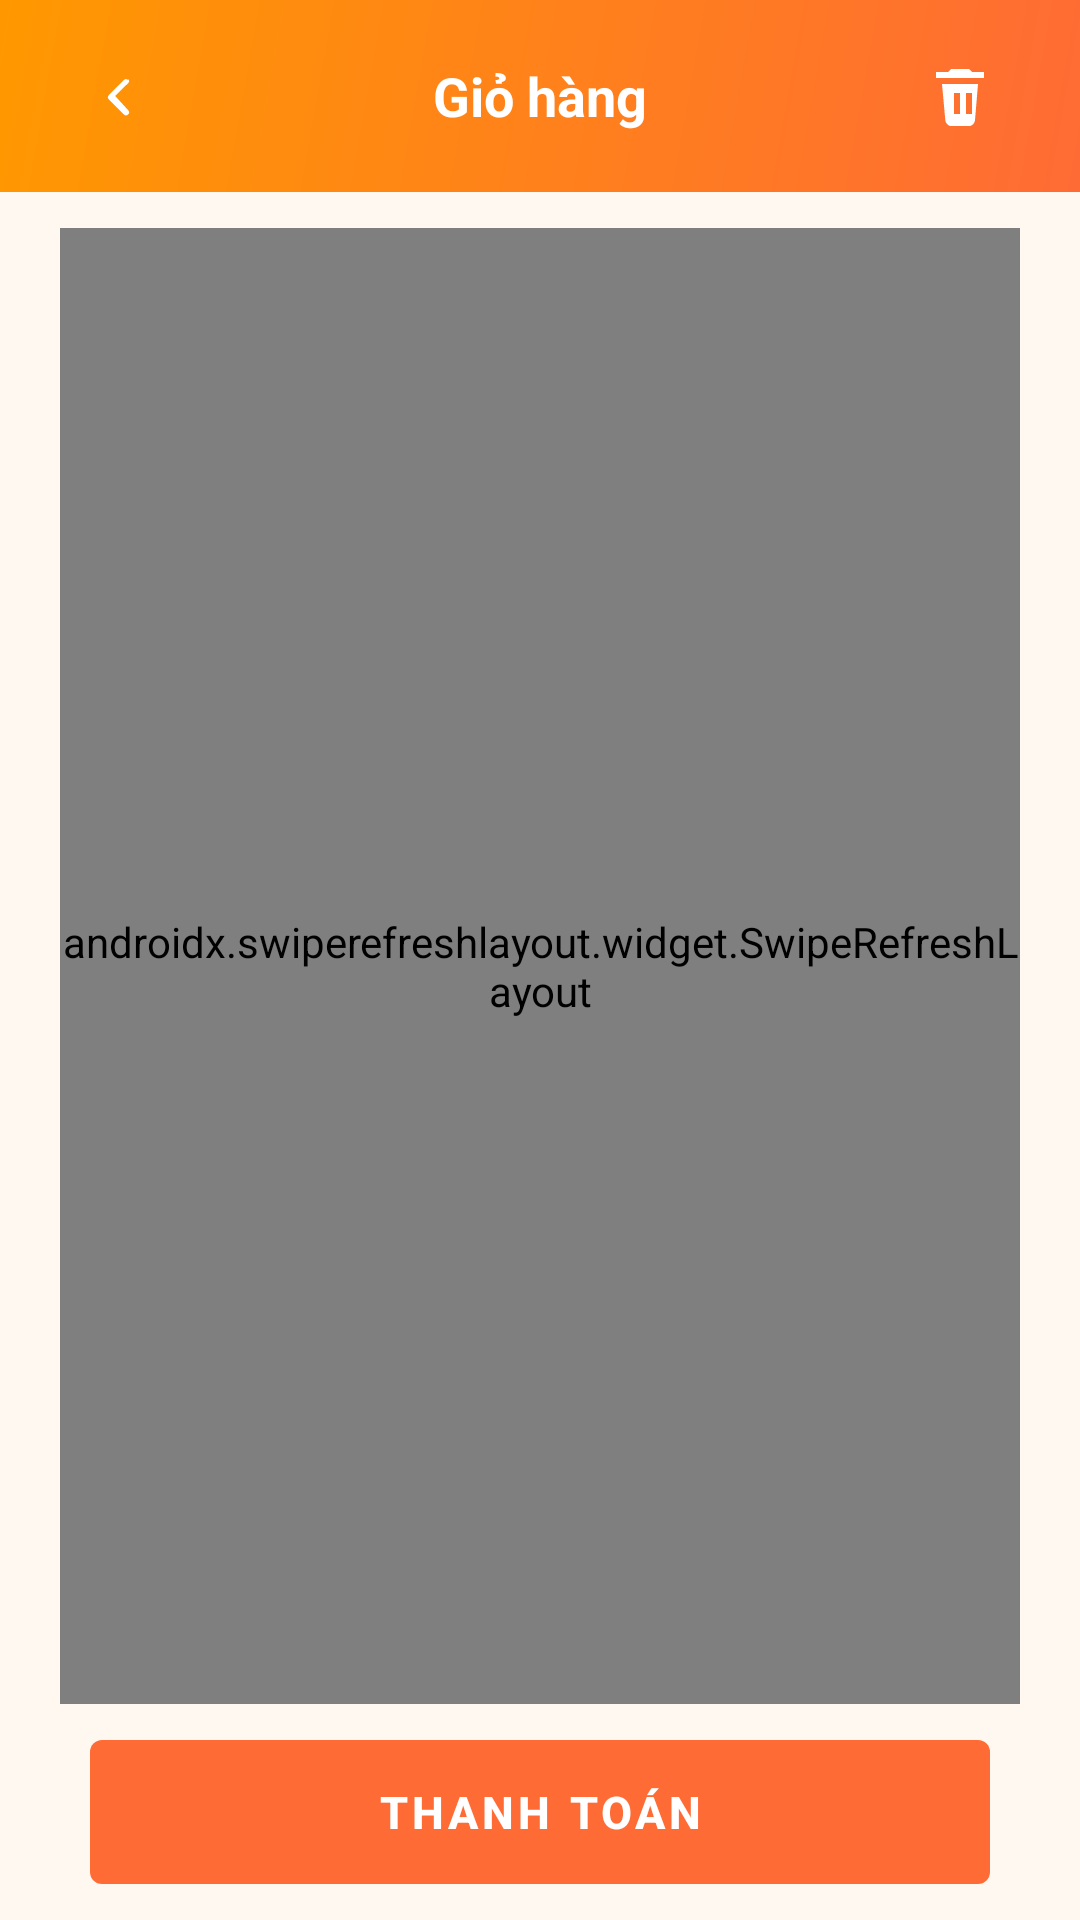

Screen size 1080x1920. Icon name, then its box in pixels as {"x1": x1, "y1": y1, "x2": x2, "y2": y2}:
chevron left: {"x1": 107, "y1": 79, "x2": 130, "y2": 116}
delete: {"x1": 936, "y1": 69, "x2": 984, "y2": 126}
